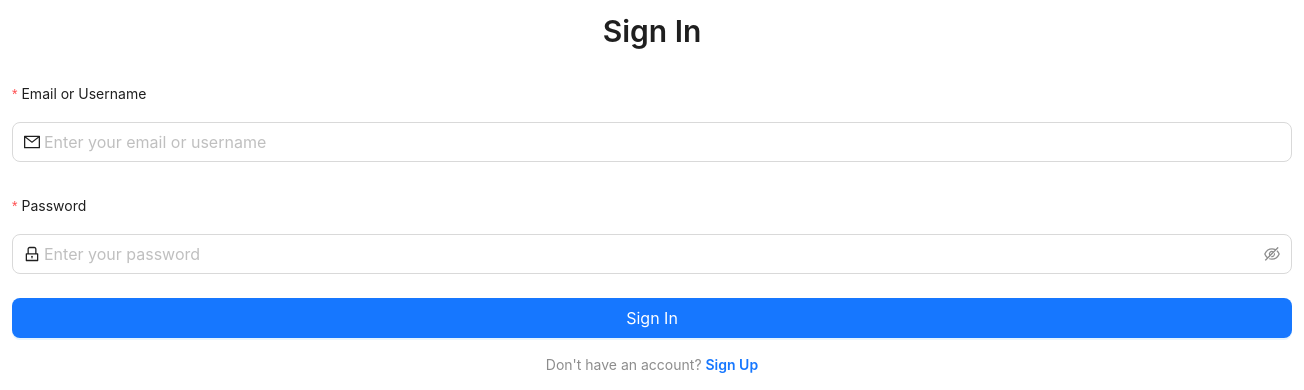
Scenario: LoginPage › shows validation error when password is empty
This screenshot has width=1304, height=390.
In the field with placeholder "Enter your email or username": x=662, y=142 x1=44 y1=130 x2=1280 y2=154, type "test@example.com"
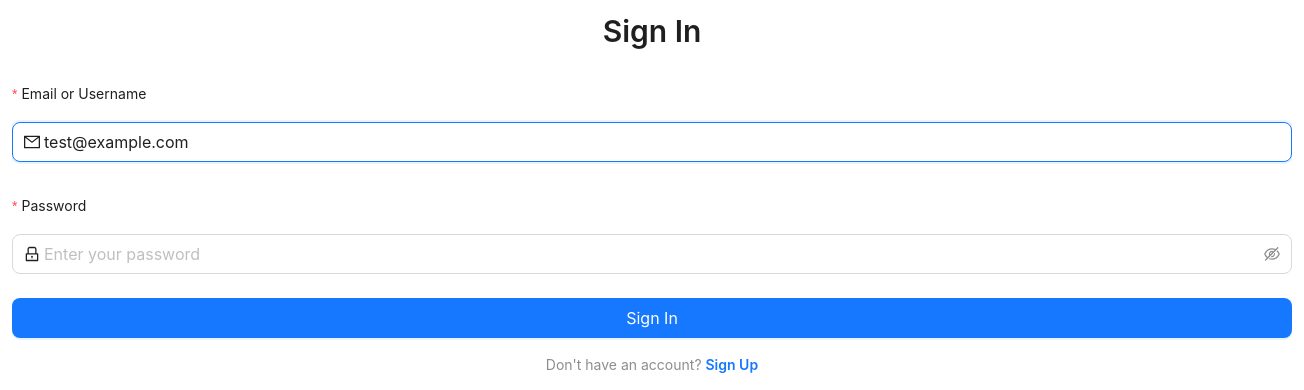
Click the button "Sign In": x=652, y=318 x1=12 y1=298 x2=1292 y2=338
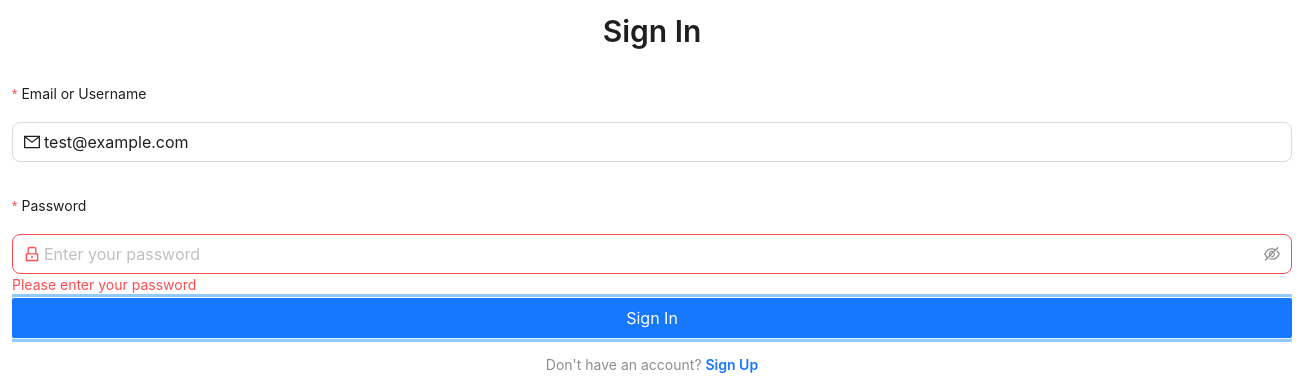
Now the text "Please enter your password" is shown, box x1=12 y1=276 x2=196 y2=293
